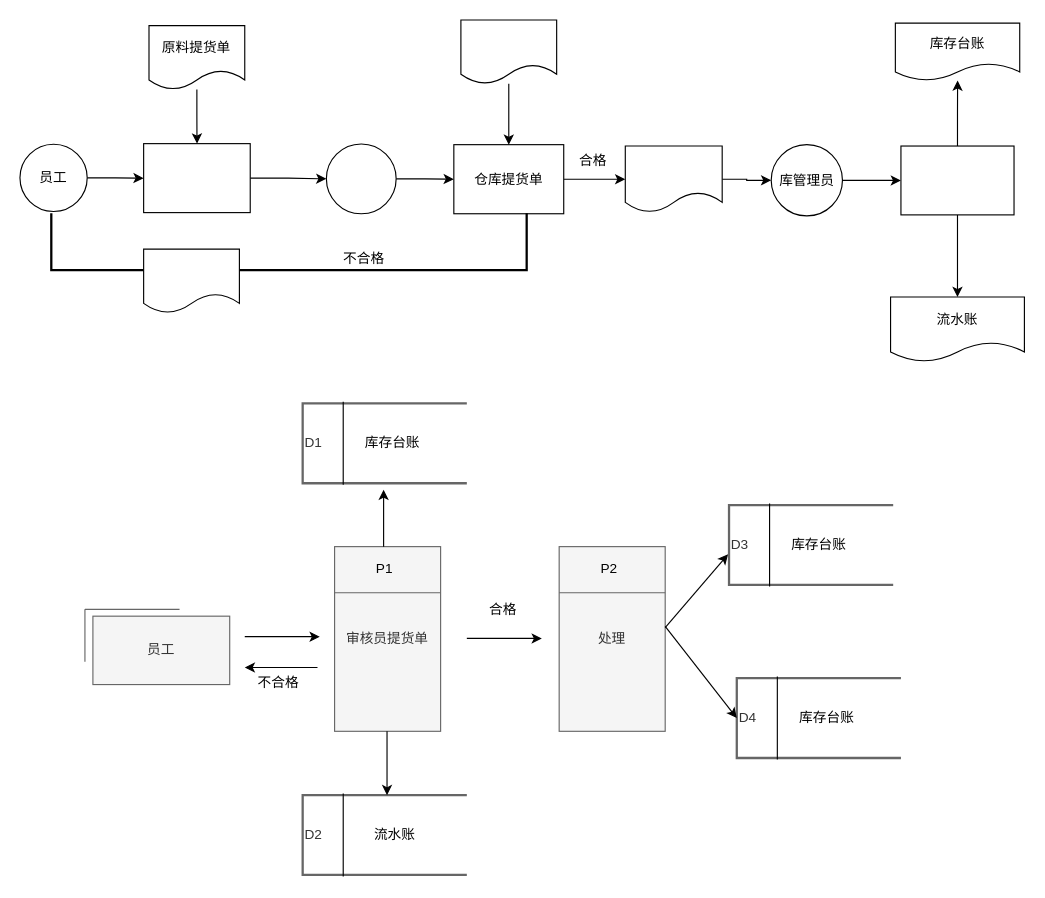
Some shapes in this 1045 by 898 pixel diagram are drawn without their labels. The centre of each missing label's shape, as x and y in pixels:
"不合格提货单" goes at point 190,280.
"仓库主任" goes at point 360,178.
"合格提货单" goes at point 673,178.
"提交" goes at point 196,177.
"更新、修改" goes at point 957,180.
"用料计划和库存情况" goes at point 508,51.
